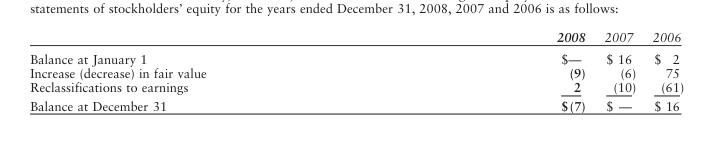table: (29, 28, 683, 112)
table column: (29, 28, 380, 112), (380, 28, 594, 112), (594, 28, 643, 112), (643, 28, 683, 112)
table column header: (29, 28, 683, 47)
table row: (29, 28, 683, 47), (29, 47, 683, 65), (29, 95, 683, 112), (29, 79, 683, 95), (29, 65, 683, 79)
